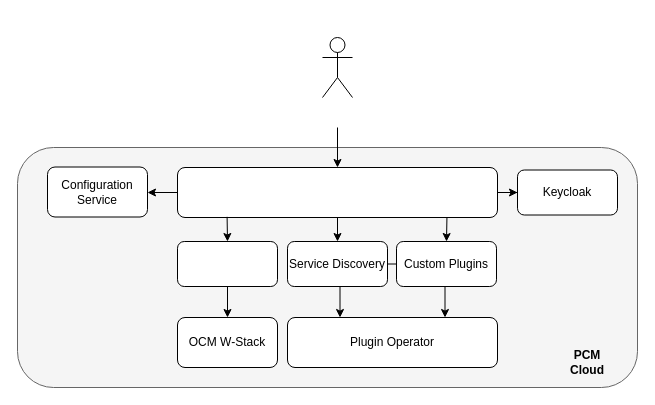
Image size: 655x405. Some labels were removed from this diagram. The shapes that lost their labels are listed below. From the top down, each one's centre as x and y in pixels, then its label:
the point at 337,67: User
the point at 337,192: Web UI
the point at 227,263: Account Service
